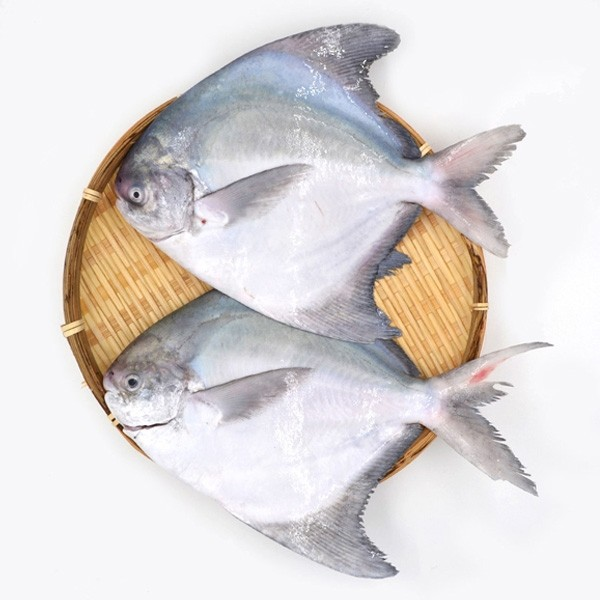Pomfret: (100, 248, 558, 587), (110, 20, 524, 340)
